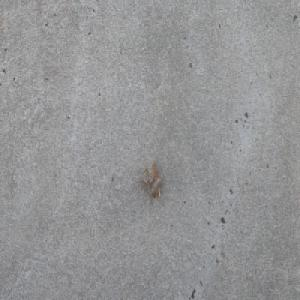Rock: (138, 158, 161, 199)
